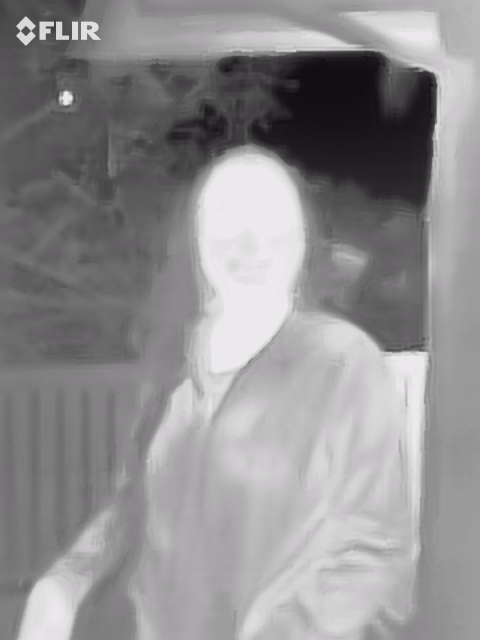head: (195, 146, 309, 306)
